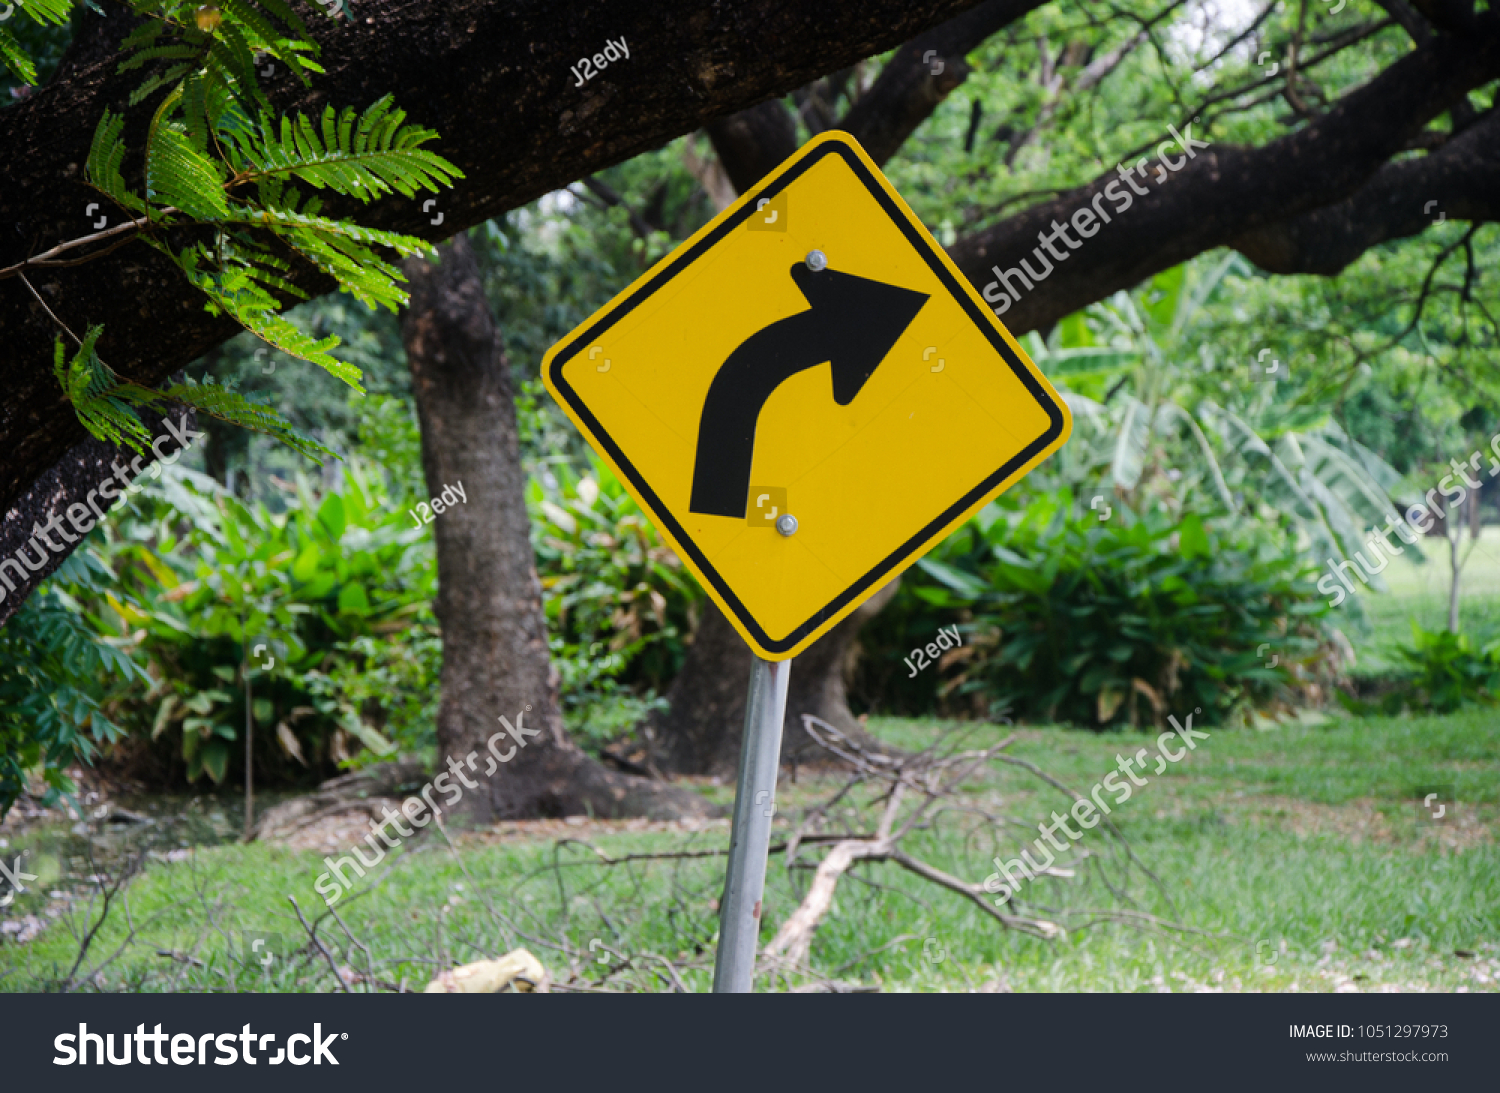right: (524, 128, 1080, 669)
